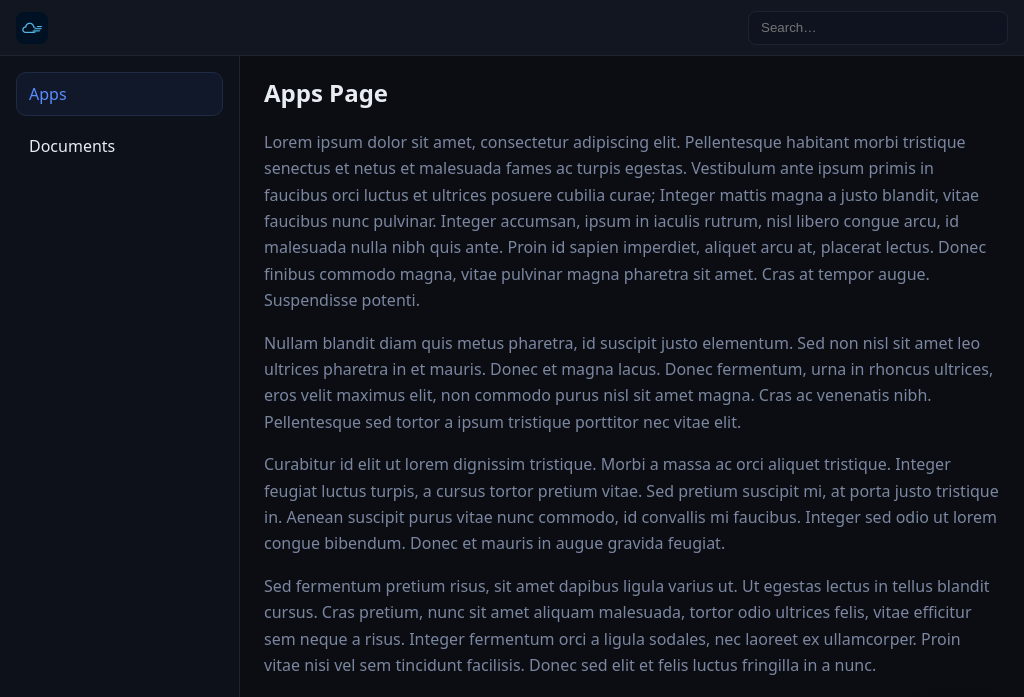
navigates to documents page
What coordinates should you click on to do the following:
click the link "Documents"
I would click on:
 (72, 146)
Its box is x1=29 y1=135 x2=115 y2=157.
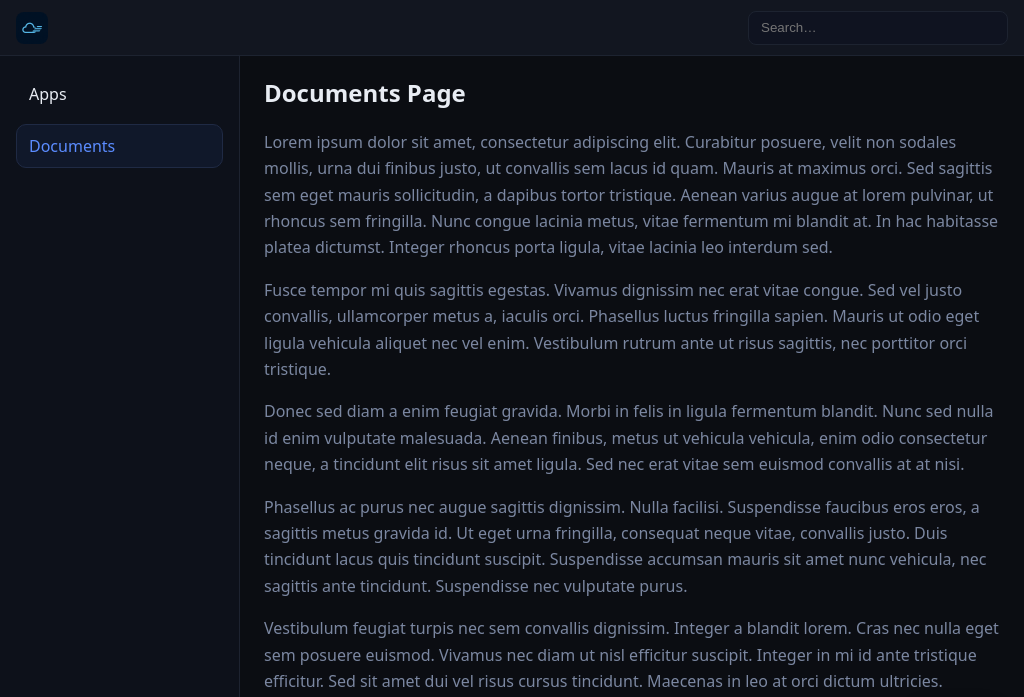
Now the heading "Documents Page" is shown, box x1=264 y1=76 x2=466 y2=109
